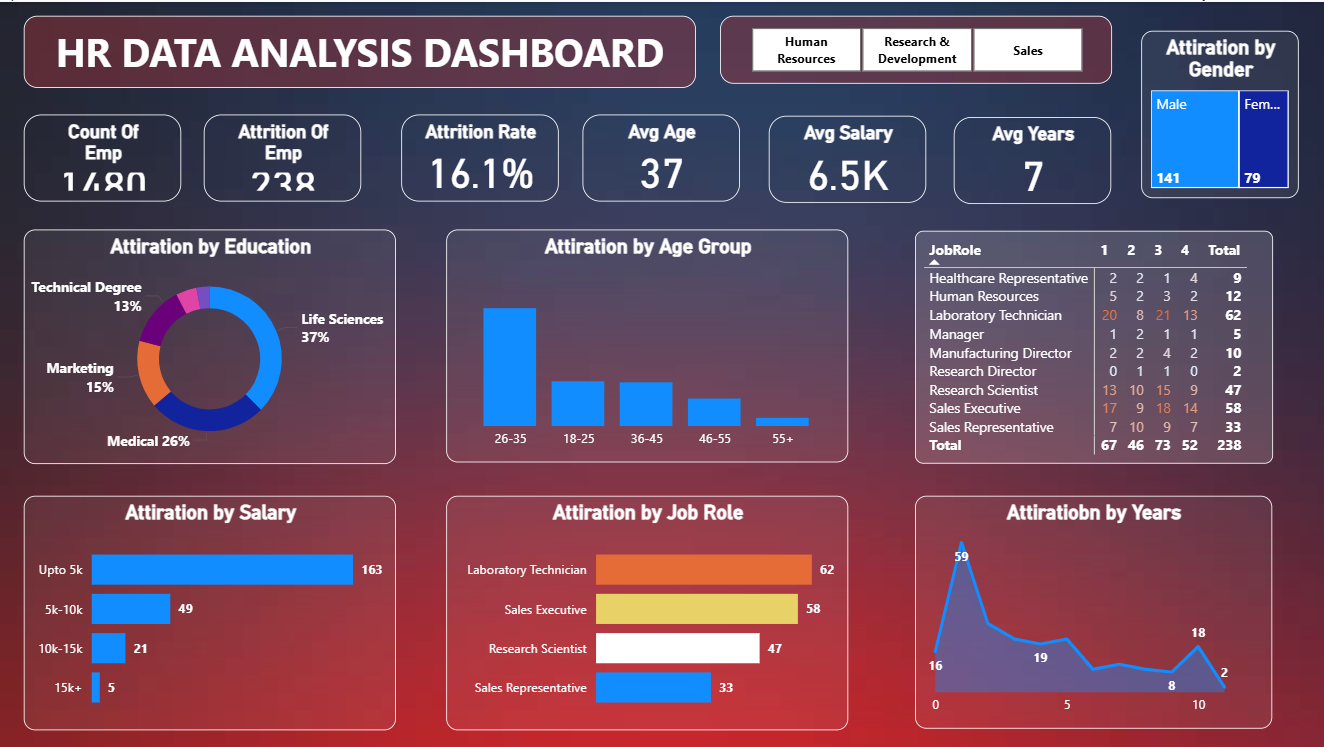

What the dashboard file says about the page in this screenshot:
{"tool":"powerbi","page":{"name":"Page 1","canvas":[1280,720],"ordinal":0},"visuals":[{"type":"textbox","box":[23.3,13.7,649.1,70],"z":0},{"type":"card","title":"Count Of Emp","fields":{"Values":["CountNonNull(HR_Analytics (2).EmpID)"]},"box":[23.3,108.4,152.3,83.7],"z":1000},{"type":"card","title":"Avg Salary","fields":{"Values":["Avg(HR_Analytics (2).MonthlyIncome)"]},"box":[742.4,109.8,152.3,83.7],"z":2000},{"type":"card","title":"Avg Age","fields":{"Values":["Avg(HR_Analytics (2).Age)"]},"box":[562.6,108.4,152.3,83.7],"z":3000},{"type":"card","title":"Attrition Rate","fields":{"Values":["HR_Analytics (2).AttiratiobnRate"]},"box":[387,108.4,152.3,83.7],"z":4000},{"type":"card","title":"Attrition Of Emp","fields":{"Values":["Sum(HR_Analytics (2).AttritionCount)"]},"box":[196.2,108.4,152.3,83.7],"z":5000},{"type":"card","title":"Avg Years","fields":{"Values":["Avg(HR_Analytics (2).YearsAtCompany)"]},"box":[920.8,111.1,152.3,83.7],"z":6000},{"type":"donutChart","title":"Attiratiobn by Education","fields":{"Category":["HR_Analytics (2).EducationField"],"Y":["Sum(HR_Analytics (2).AttritionCount)"]},"box":[23.3,219.6,359.5,226.4],"z":7000},{"type":"clusteredColumnChart","title":"Attiratiobn by Age Group","fields":{"Category":["HR_Analytics (2).AgeGroup"],"Y":["Sum(HR_Analytics (2).AttritionCount)"]},"box":[430.9,219.6,388.3,225],"z":8000},{"type":"pivotTable","fields":{"Rows":["HR_Analytics (2).JobRole"],"Columns":["HR_Analytics (2).JobSatisfaction"],"Values":["Sum(HR_Analytics (2).AttritionCount)"]},"box":[883.7,220.9,345.8,225],"z":9000},{"type":"barChart","title":"Attiratiobn by Salary","fields":{"Category":["HR_Analytics (2).SalarySlab"],"Y":["Sum(HR_Analytics (2).AttritionCount)"]},"box":[23.3,476.2,359.5,226.4],"z":10000},{"type":"barChart","title":"Attiratiobn by Job Role","fields":{"Category":["HR_Analytics (2).JobRole"],"Y":["Sum(HR_Analytics (2).AttritionCount)"]},"box":[430.9,476.2,388.3,226.4],"z":10001},{"type":"areaChart","title":"Attiratiobn by Age ","fields":{"Category":["HR_Analytics (2).YearsAtCompany"],"Y":["Sum(HR_Analytics (2).AttritionCount)"]},"box":[883.7,476.2,344.4,225],"z":10002},{"type":"treemap","title":"Attiratiobn by Gender","fields":{"Values":["Sum(HR_Analytics (2).AttritionCount)"],"Group":["HR_Analytics (2).Gender"]},"box":[1101.9,27.4,152.3,161.9],"z":10003},{"type":"slicer","fields":{"Values":["HR_Analytics (2).Department"]},"box":[694.3,13.7,378.7,65.9],"z":10004}]}

Visuals, with their boxes in screenshot pixels (x1, y1, x2, y2), scaled from the page's 1280x720 canvas onto the 1324x747 screenshot:
textbox: bbox=(24, 14, 696, 87)
"Count Of Emp" card: bbox=(24, 112, 182, 199)
"Avg Salary" card: bbox=(768, 114, 925, 201)
"Avg Age" card: bbox=(582, 112, 739, 199)
"Attrition Rate" card: bbox=(400, 112, 558, 199)
"Attrition Of Emp" card: bbox=(203, 112, 360, 199)
"Avg Years" card: bbox=(952, 115, 1110, 202)
"Attiratiobn by Education" donutChart: bbox=(24, 228, 396, 463)
"Attiratiobn by Age Group" clusteredColumnChart: bbox=(446, 228, 847, 461)
pivotTable - HR_Analytics (2).JobRole x HR_Analytics (2).JobSatisfaction: bbox=(914, 229, 1272, 463)
"Attiratiobn by Salary" barChart: bbox=(24, 494, 396, 729)
"Attiratiobn by Job Role" barChart: bbox=(446, 494, 847, 729)
"Attiratiobn by Age " areaChart: bbox=(914, 494, 1270, 727)
"Attiratiobn by Gender" treemap: bbox=(1140, 28, 1297, 196)
slicer - HR_Analytics (2).Department: bbox=(718, 14, 1110, 83)
